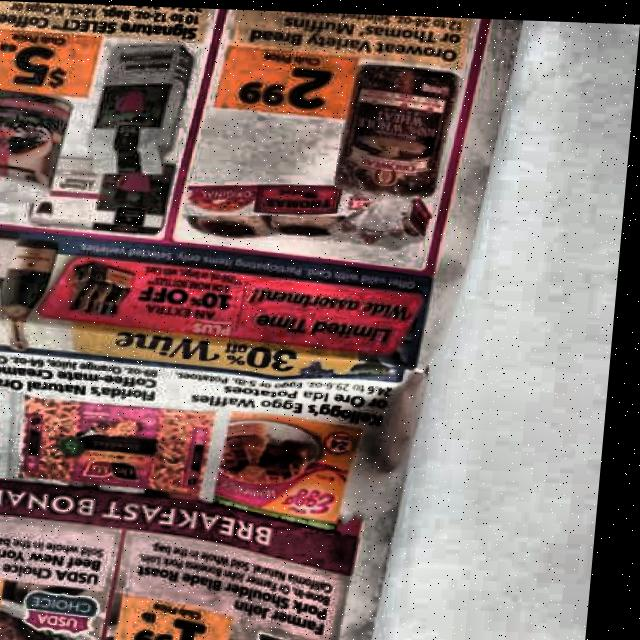paper: (0, 0, 522, 640)
